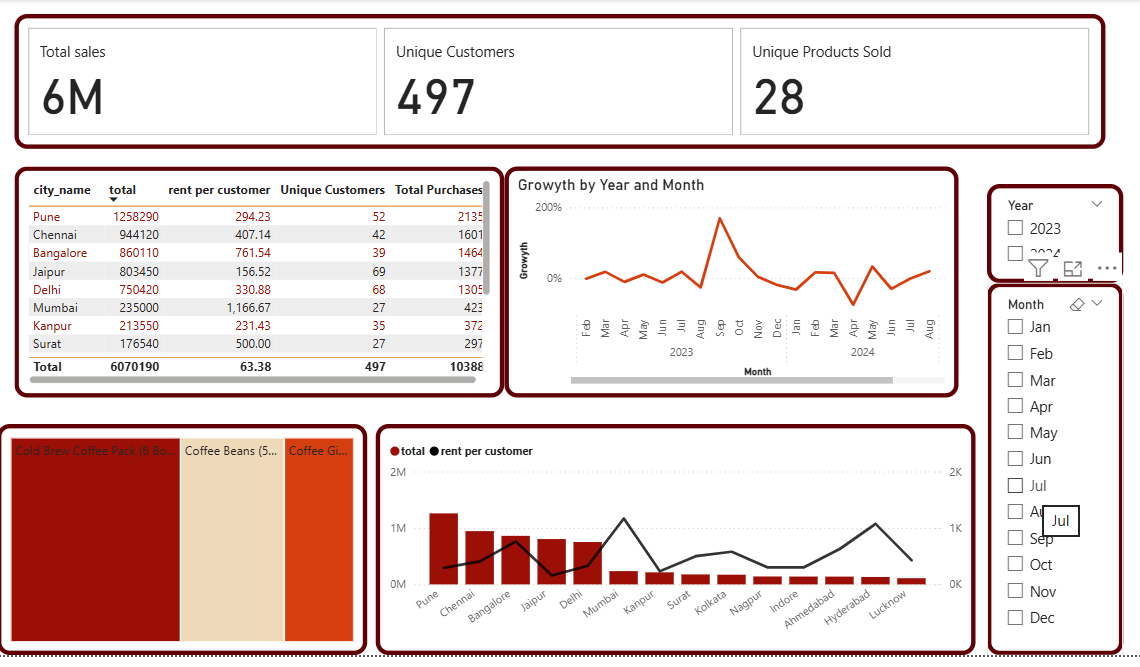

What the dashboard file says about the page in this screenshot:
{"tool":"powerbi","page":{"name":"Page 3","canvas":[1280,720],"ordinal":0},"visuals":[{"type":"lineChart","fields":{"Category":["Calendar.Year","Calendar.Month"],"Y":["city.growyth"]},"box":[557.1,183.9,498.1,253.9],"z":0},{"type":"tableEx","fields":{"Values":["city.city_name","city.total","city.rent per customer","city.DCC","city.CCC"]},"box":[19.2,183.9,537.9,253.9],"z":1000},{"type":"cardVisual","fields":{"Data":["city.total","city.DCC","city.COUNT PRO"]},"box":[19.2,16.5,1197.9,148.2],"z":2000},{"type":"treemap","fields":{"Group":["products.product_name"],"Values":["Sum(sales.total)"]},"box":[0,466.6,406.2,253.9],"z":3000},{"type":"lineStackedColumnComboChart","fields":{"Category":["city.city_name"],"Y":["city.total"],"Y2":["city.rent per customer"]},"box":[415.8,466.6,658.7,253.9],"z":4000},{"type":"slicer","fields":{"Values":["Calendar.Year"]},"box":[1086.8,203.1,149.6,108.4],"z":5000},{"type":"slicer","fields":{"Values":["Calendar.Month"]},"box":[1086.8,311.5,149.6,408.9],"z":6000}]}

Visuals, with their boxes in screenshot pixels (x1, y1, x2, y2):
lineChart - Calendar.Year x Calendar.Month: 501:164:955:396
tableEx - city.city_name x city.total: 12:164:501:396
cardVisual - city.total x city.DCC: 12:12:1102:147
treemap - products.product_name x Sum(sales.total): 0:422:364:653
lineStackedColumnComboChart - city.city_name x city.total: 373:422:972:653
slicer - Calendar.Year: 984:182:1120:281
slicer - Calendar.Month: 984:281:1120:653
